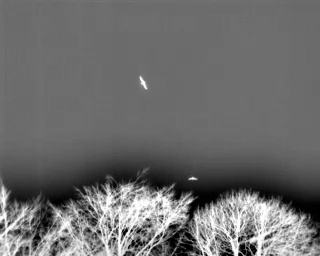BIRD: (186, 174, 200, 185)
